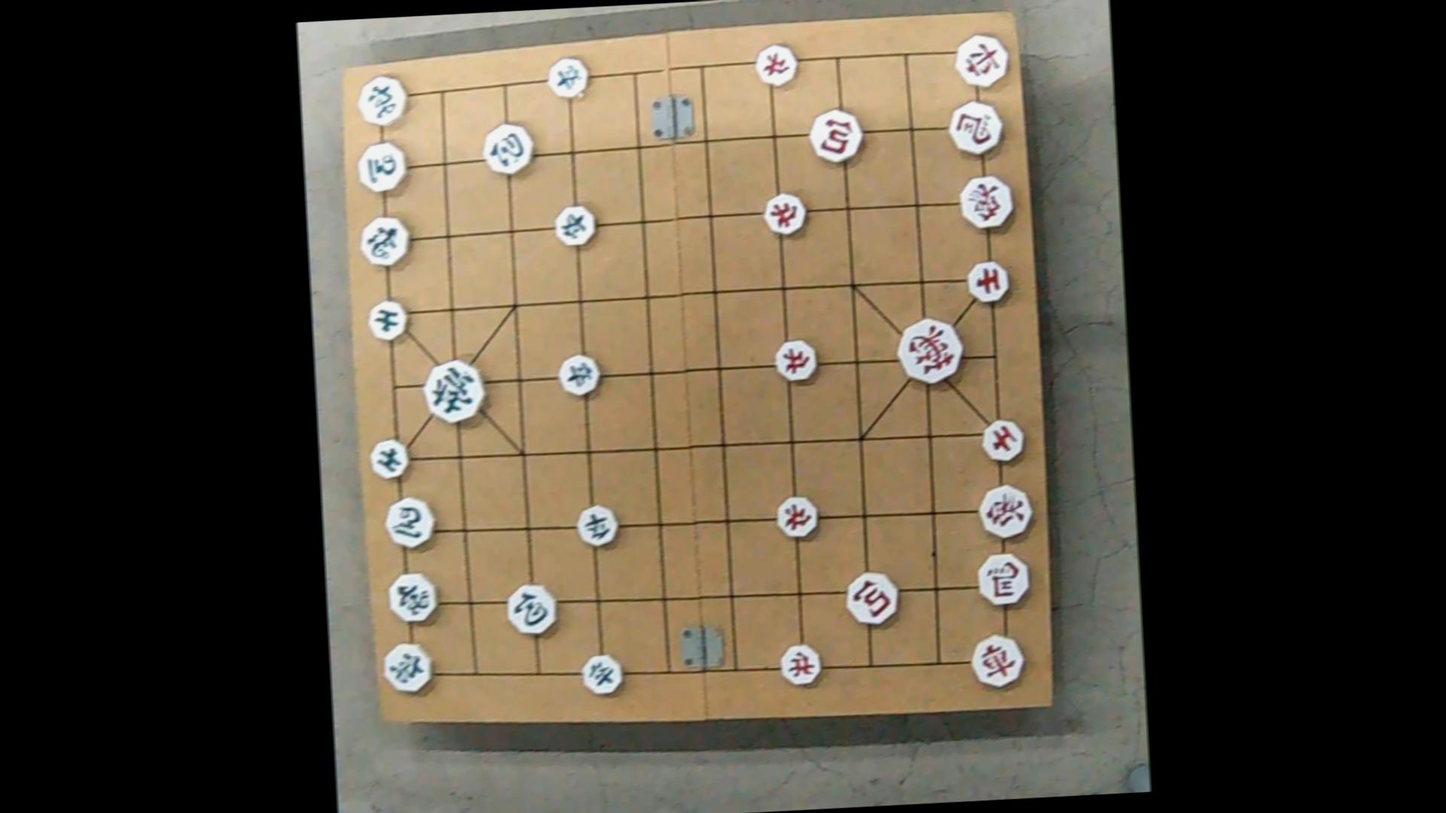cha_green: (380, 641, 438, 693), (358, 76, 408, 130)
cha_red: (956, 35, 1007, 87), (971, 635, 1021, 687)
jol_green: (548, 56, 589, 101), (578, 502, 619, 547), (582, 650, 623, 695), (558, 352, 601, 394), (556, 206, 597, 250)
jol_red: (773, 337, 816, 383), (775, 495, 816, 541), (763, 195, 805, 239), (755, 43, 796, 88), (779, 641, 820, 686)
ma_green: (386, 495, 435, 550), (356, 143, 405, 196)
ma_red: (948, 99, 1003, 155), (976, 552, 1028, 607)
po_green: (484, 120, 535, 174), (508, 580, 557, 632)
po_red: (845, 569, 898, 624), (809, 107, 862, 161)
sa_green: (368, 299, 409, 344), (371, 435, 410, 477)
sa_red: (982, 419, 1025, 466), (966, 260, 1009, 305)
sang_green: (386, 571, 438, 626), (358, 216, 413, 267)
sang_red: (958, 172, 1013, 228), (978, 486, 1033, 540)
wang_green: (423, 356, 485, 422)
wang_red: (900, 318, 964, 385)
